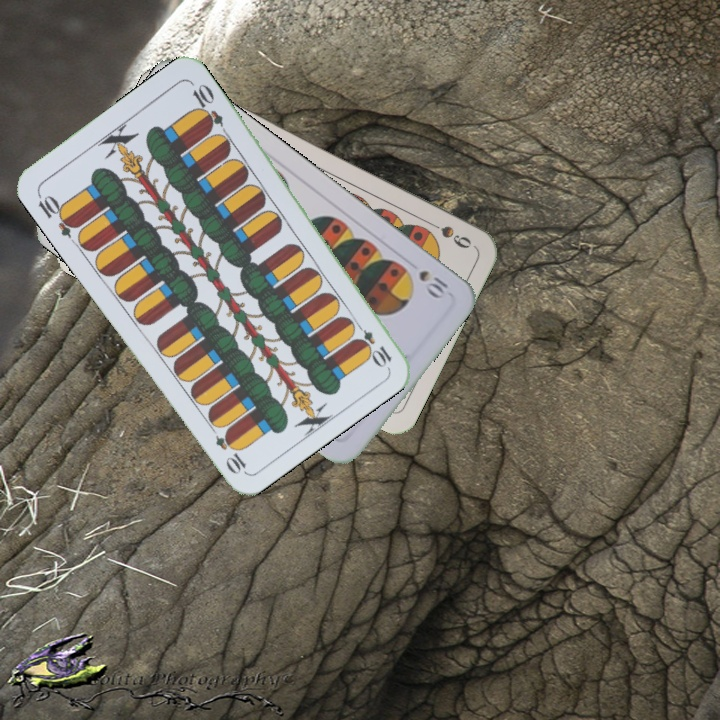E10: (33, 189, 81, 240), (349, 317, 395, 369)
S10: (414, 266, 451, 302)
S9: (420, 215, 474, 252)
